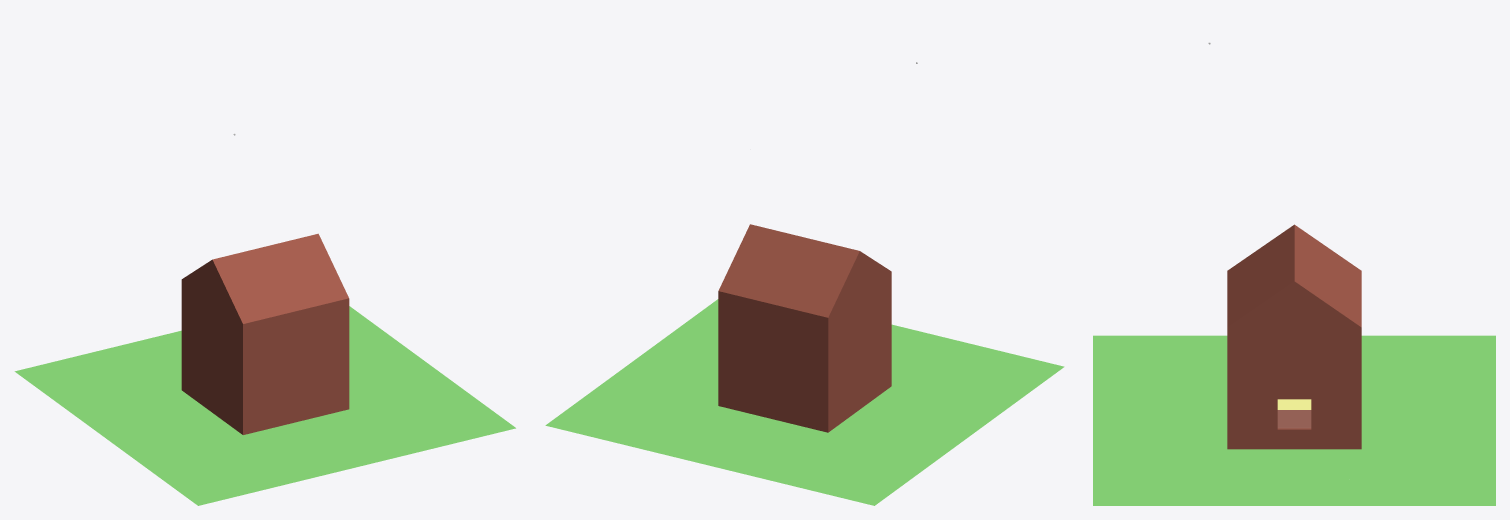
The model's file is kerstgroet.glb.
The picture shows the model from 3 angles, left to right: view 1: azimuth 30°, elevation 25°; view 2: azimuth 150°, elevation 25°; view 3: azimuth 270°, elevation 25°; orthographic projection. The views are drawn at different scales.
Visible parts, largest first — view 1: Plane, House; view 2: Plane, House; view 3: Plane, House, Cube.002.
Boxes of the visible parts, bbox=[...] form: Plane: bbox=[14, 306, 515, 505]; House: bbox=[181, 233, 349, 434]; Plane: bbox=[545, 299, 1064, 505]; House: bbox=[718, 224, 891, 432]; Plane: bbox=[1093, 335, 1495, 505]; House: bbox=[1227, 224, 1361, 449]; Cube.002: bbox=[1278, 400, 1310, 427].
Bounding box in the file's own units: 6 × 5.65 × 6.
